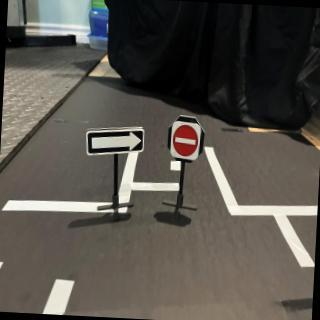sign_noentry: (171, 122, 204, 163)
sign_oneway_right: (86, 123, 147, 161)
